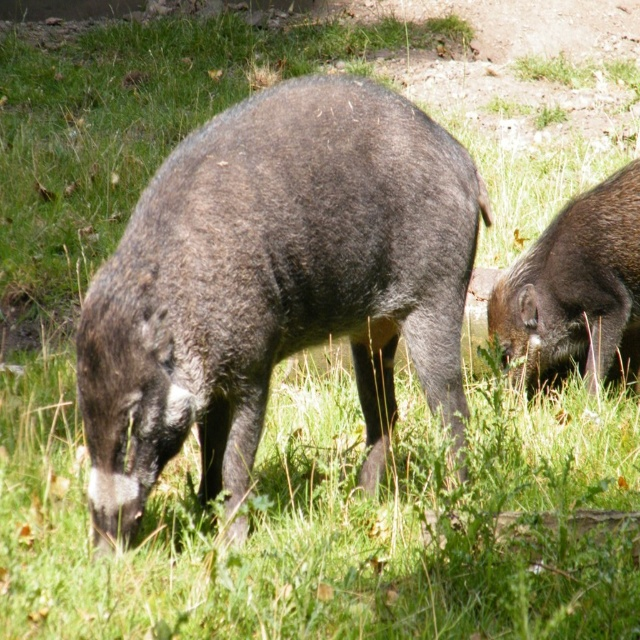Pig: (73, 70, 495, 567), (487, 157, 640, 399)
